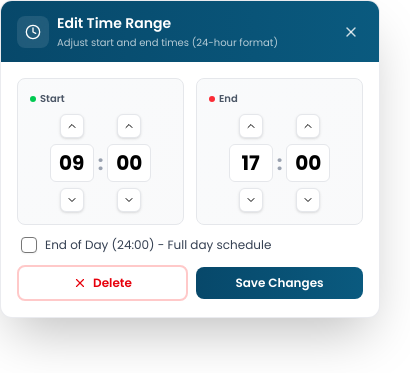
CustomTimePicker › blur clamps minute > 59 down to 59
The width and height of the screenshot is (410, 373).
Replace the text in the field named "Start minute" with "88" at (129, 163), box [107,144,151,182]
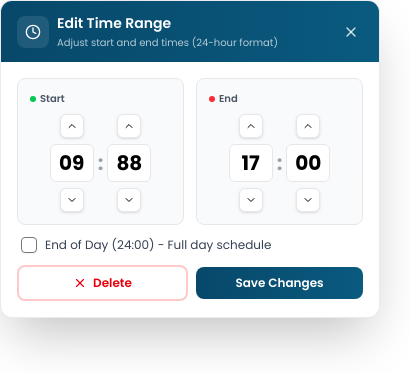
Leave the field named "Start minute", box [107,144,151,182]
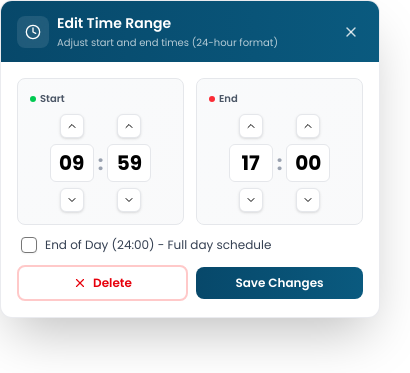
Expected: the field named "Start minute" holds "59", [107,144,151,182]
